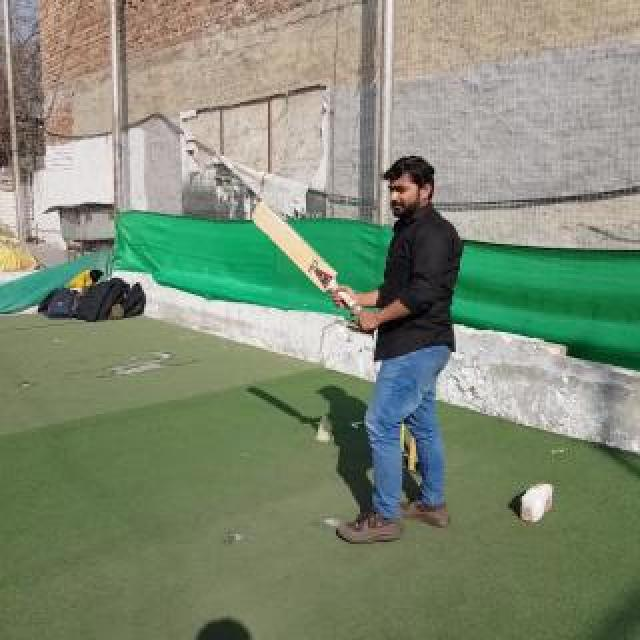bat: (250, 201, 364, 311)
